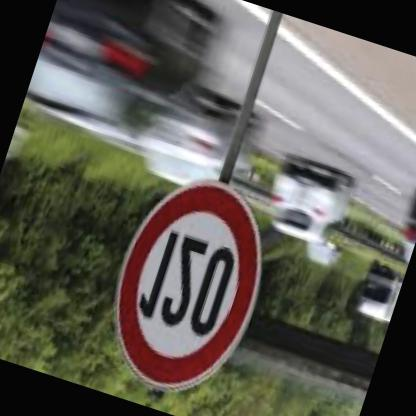speedlimit: (86, 162, 286, 412)
